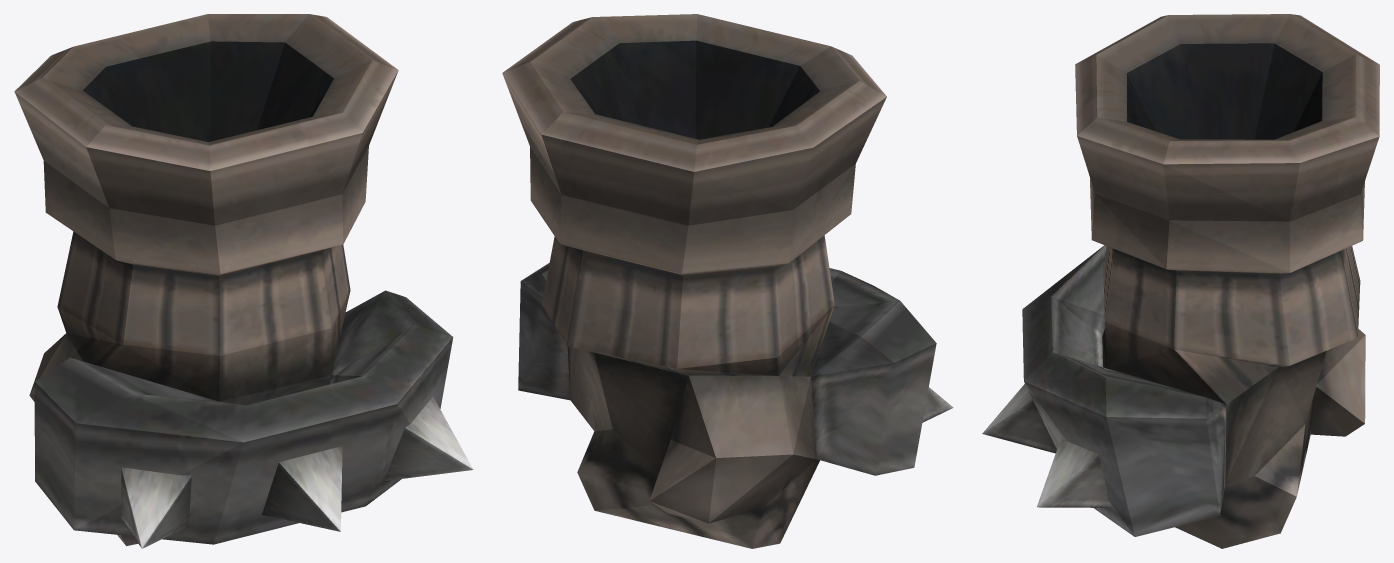
Rendered from Panda_germanGlove_right.obj.
3 renders of one model, left to right at view 1: azimuth 30°, elevation 25°; view 2: azimuth 150°, elevation 25°; view 3: azimuth 270°, elevation 25°, orthographic. The views are drawn at different scales.
Parts seen in each view (by area): view 1: Panda_germanGlove_tri [right]; view 2: Panda_germanGlove_tri [right]; view 3: Panda_germanGlove_tri [right].
Part boxes in pixels (box(x1,y1,x2,y2)): Panda_germanGlove_tri [right]: box(14, 14, 473, 548); Panda_germanGlove_tri [right]: box(502, 14, 953, 548); Panda_germanGlove_tri [right]: box(982, 14, 1379, 548).
Bounding box in the file's own units: 0.1586 × 0.185 × 0.1524.
Materials: 1 (1 with a texture image).
